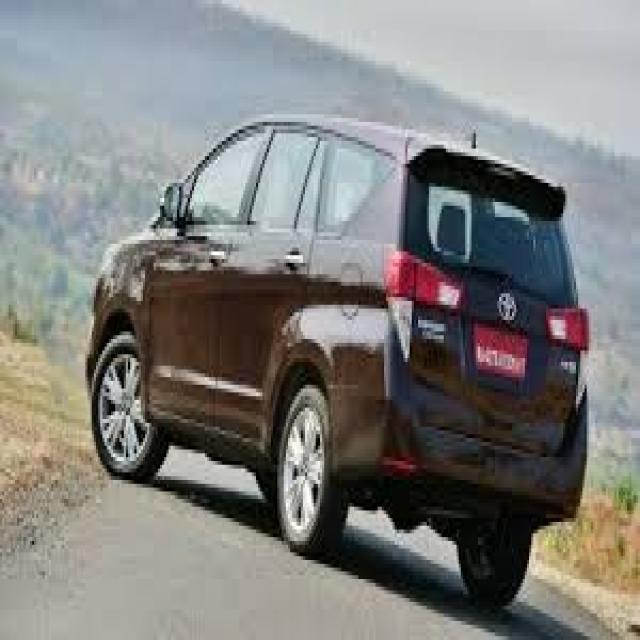light_vehicle: (86, 112, 590, 612)
